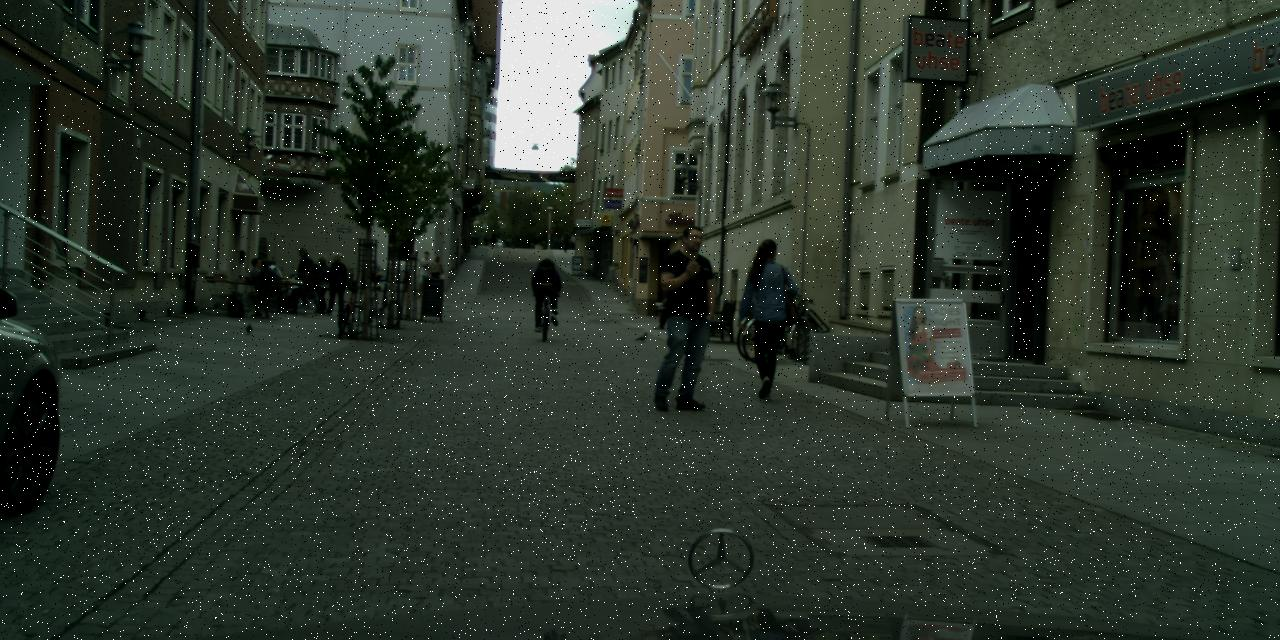ped: (645, 225, 721, 411), (734, 238, 799, 400), (532, 258, 560, 328), (323, 252, 349, 316), (294, 248, 318, 306), (312, 256, 334, 314), (415, 251, 433, 296), (428, 255, 443, 295), (562, 232, 569, 248), (570, 233, 576, 249), (473, 230, 479, 244), (490, 232, 495, 246)
